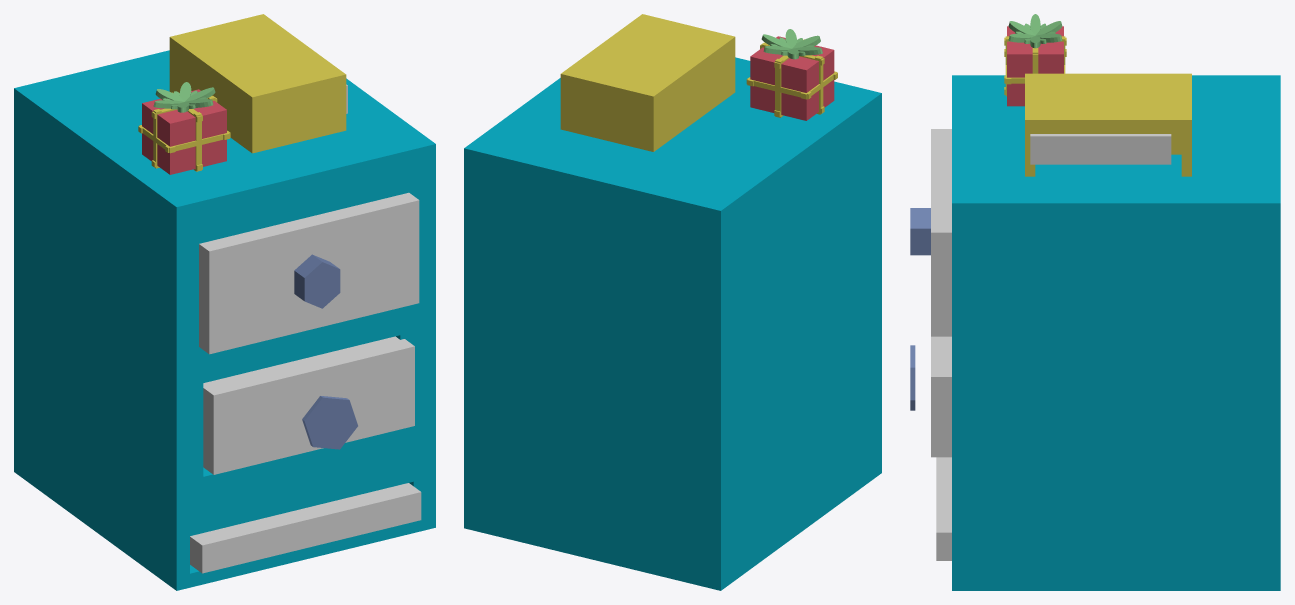
File: Side Table.glb
3 views of the same model, side by side, from view 1: azimuth 30°, elevation 25°; view 2: azimuth 150°, elevation 25°; view 3: azimuth 270°, elevation 25° (orthographic). The views are drawn at different scales.
Parts seen in each view (by area): view 1: Mesh_Mesh_head_geo.001_lambert2SG.001; view 2: Mesh_Mesh_head_geo.001_lambert2SG.001; view 3: Mesh_Mesh_head_geo.001_lambert2SG.001.
Boxes of the visible parts, x1=… form: Mesh_Mesh_head_geo.001_lambert2SG.001: x1=14, y1=14, x2=435, y2=590; Mesh_Mesh_head_geo.001_lambert2SG.001: x1=464, y1=14, x2=881, y2=590; Mesh_Mesh_head_geo.001_lambert2SG.001: x1=910, y1=14, x2=1280, y2=590.
Bounding box in the file's own units: 58 × 97 × 71.
